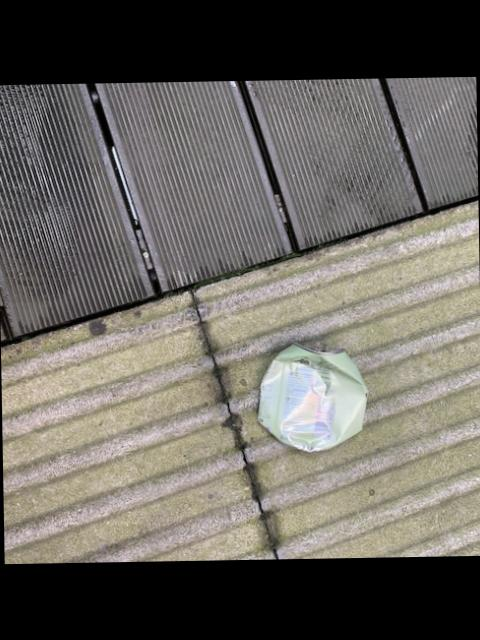metal: (257, 343, 367, 450)
